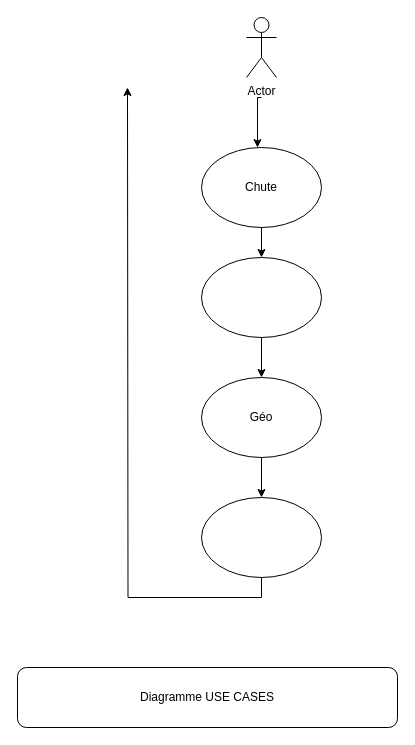
Image size: 415x745. Some labels were removed from this diagram. Each missing label, with the centre of its shape:
Buzzer: pixel 261 297
SMS/Appel: pixel 261 537
